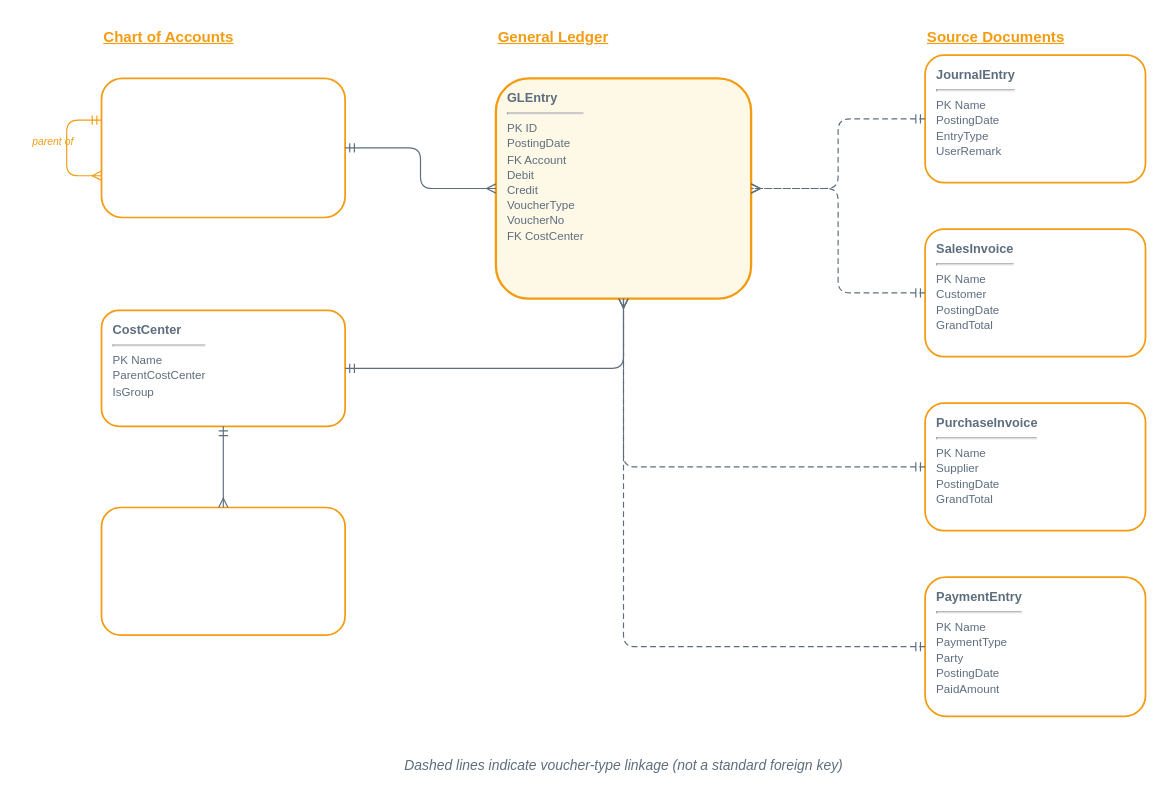
The diagram is 1176 pixels wide and 799 high, and some of its shapes have lost their labels. The centre of each missing label's shape, as x and y in pixels:
Account PK AccountName AccountType FK ParentAccount (self) IsGroup: [222,147]
Budget PK Name FK CostCenter FiscalYear BudgetAmount: [222,570]
